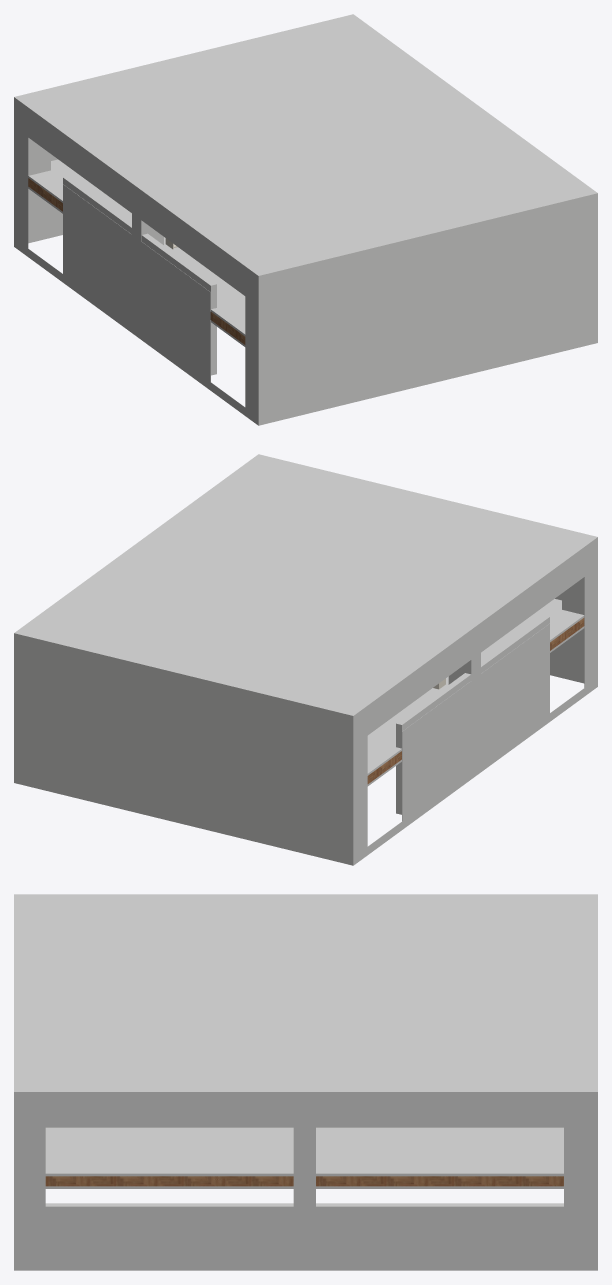
The model's file is classroom2.glb.
3 renders of one model, top to bottom at view 1: azimuth 30°, elevation 25°; view 2: azimuth 150°, elevation 25°; view 3: azimuth 270°, elevation 25°, orthographic. The views are drawn at different scales.
Bounding box in the file's own units: 272306 × 114827 × 339794.
Materials: 21 (5 with a texture image).
